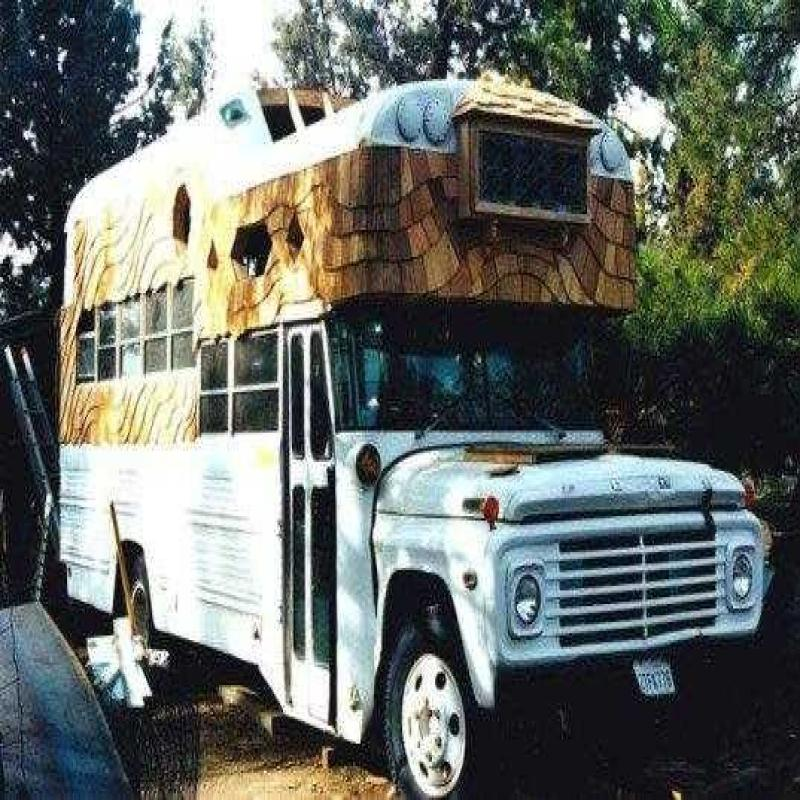bus: (54, 59, 780, 800)
